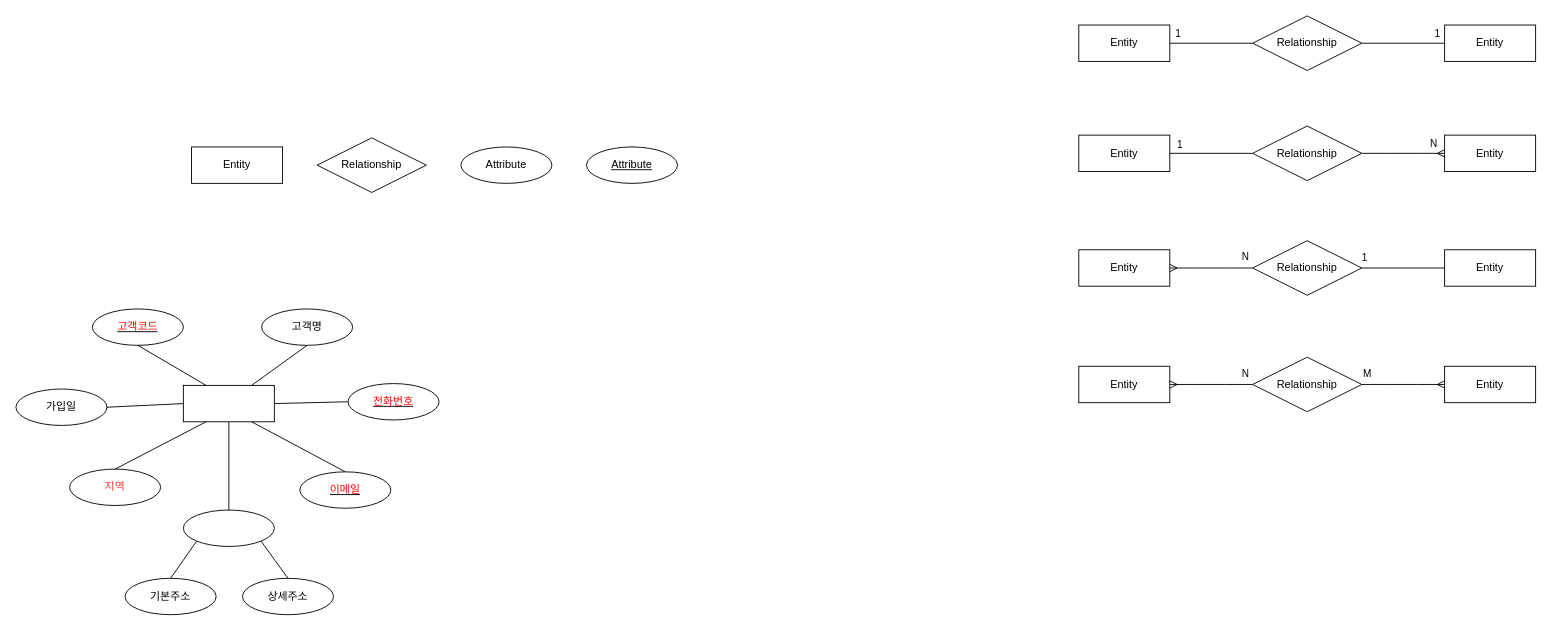
This 1552x631 diagram has some shape labels left out. The shapes that lost their labels are listed below. From the top down, each one's box as (x1, y1, x2, y2) in pixels, then its label:
(182, 384, 274, 422): 고객
(182, 509, 274, 546): 주소
